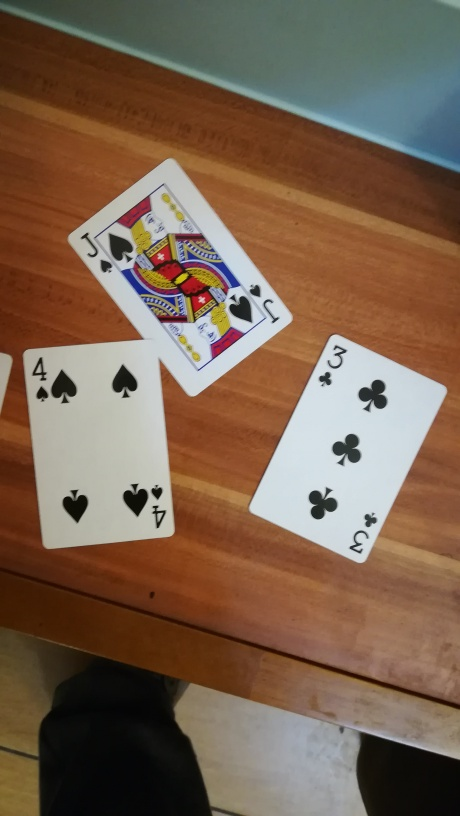ht 4: (19, 342, 177, 559)
ht j: (70, 152, 294, 391)
mh 3: (249, 332, 447, 580)
